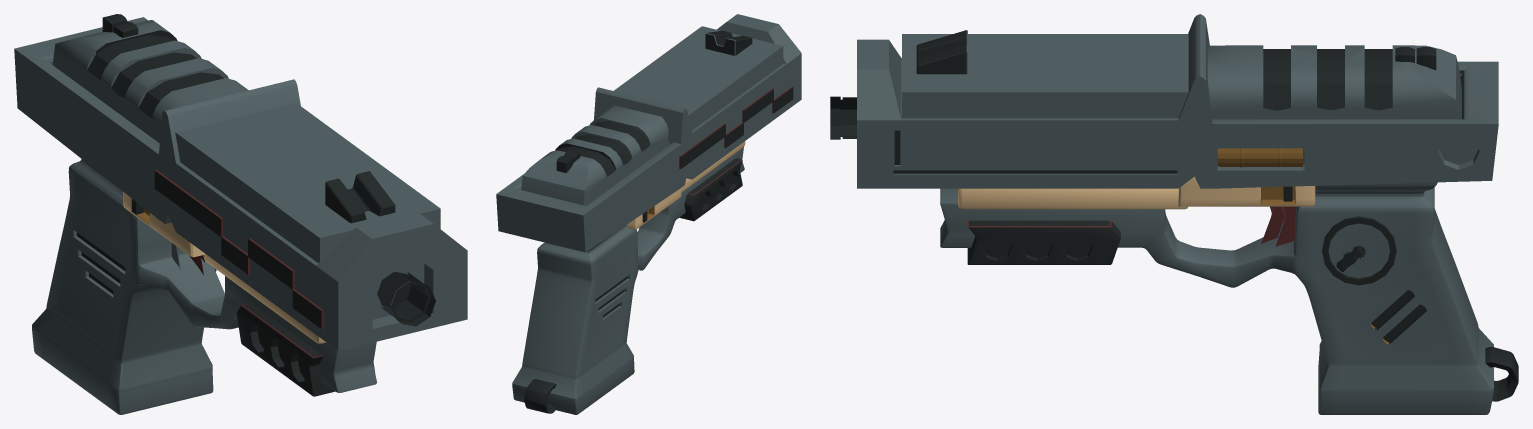
Rendered from gun.fbx.
The picture shows the model from 3 angles, left to right: view 1: azimuth 30°, elevation 25°; view 2: azimuth 150°, elevation 25°; view 3: azimuth 270°, elevation 25°; orthographic projection. The views are drawn at different scales.
Parts seen in each view (by area): view 1: Cube; view 2: Cube; view 3: Cube.
Boxes of the visible parts, x1=… form: Cube: x1=14, y1=14, x2=467, y2=414; Cube: x1=496, y1=14, x2=801, y2=414; Cube: x1=830, y1=14, x2=1518, y2=414.
Size of the model in its own units: 124 by 323 by 567.
